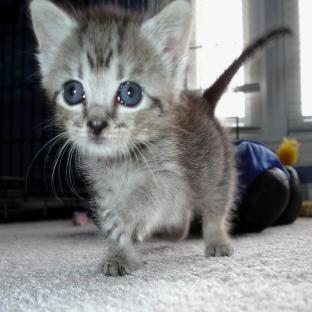Animal: (29, 0, 291, 275)
